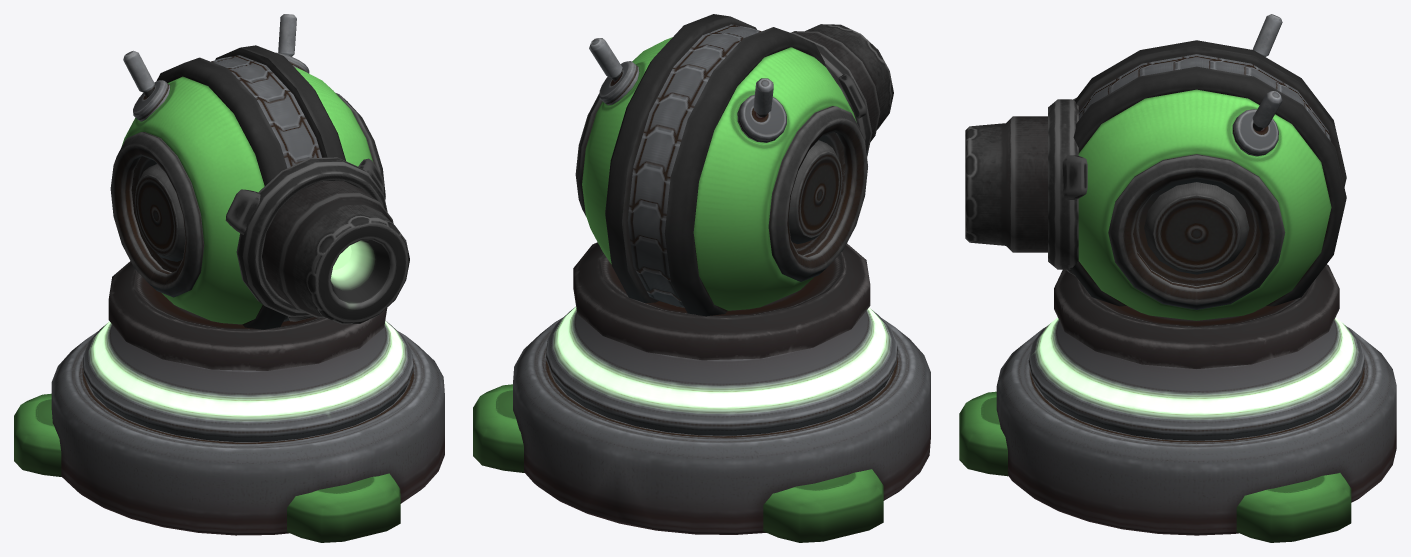
File: Laser_Green_0.gltf
The picture shows the model from 3 angles, left to right: view 1: azimuth 30°, elevation 25°; view 2: azimuth 150°, elevation 25°; view 3: azimuth 270°, elevation 25°; orthographic projection. The views are drawn at different scales.
Parts seen in each view (by area): view 1: lazer_lvl1_base, lazer_lvl1_main, lazer_lvl1_mid, lazer_lvl1_barrel; view 2: lazer_lvl1_main, lazer_lvl1_base, lazer_lvl1_mid, lazer_lvl1_barrel; view 3: lazer_lvl1_main, lazer_lvl1_base, lazer_lvl1_mid, lazer_lvl1_barrel.
Boxes of the visible parts, x1,y1,x2,y2 form: lazer_lvl1_base: [14, 331, 444, 542]; lazer_lvl1_main: [110, 14, 385, 329]; lazer_lvl1_mid: [82, 261, 413, 441]; lazer_lvl1_barrel: [225, 157, 409, 324]; lazer_lvl1_main: [575, 14, 867, 316]; lazer_lvl1_base: [473, 317, 930, 542]; lazer_lvl1_mid: [546, 242, 897, 435]; lazer_lvl1_barrel: [790, 24, 893, 157]; lazer_lvl1_main: [1070, 14, 1346, 320]; lazer_lvl1_base: [959, 327, 1396, 542]; lazer_lvl1_mid: [1028, 264, 1364, 440]; lazer_lvl1_barrel: [965, 98, 1087, 276].
Bounding box in the file's own units: 0.6764 × 0.6743 × 0.6684.
1 material, 1 textured.
